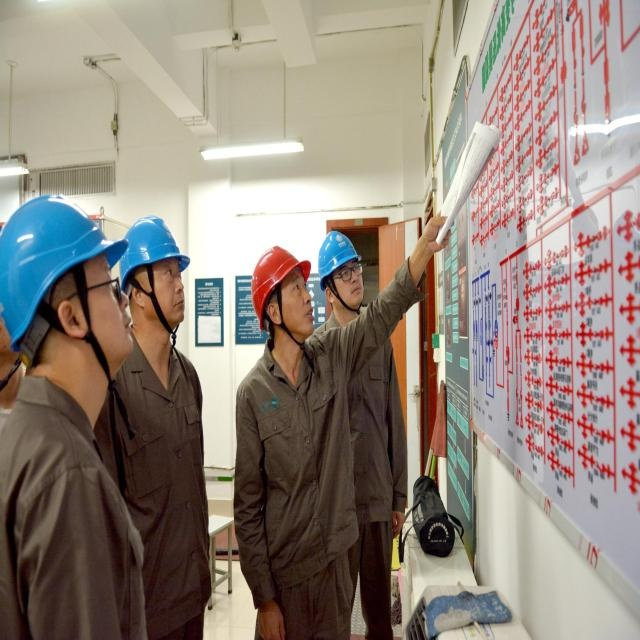Con_Casco: (316, 227, 364, 316)
Sin_Chaleco: (236, 335, 352, 600)
